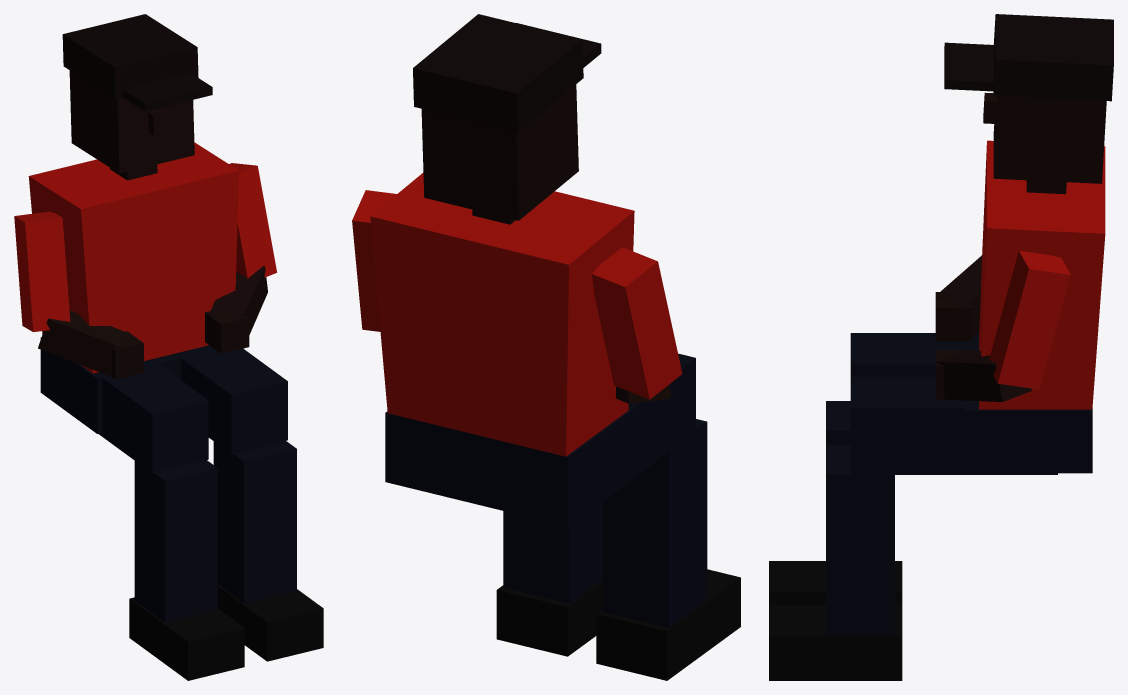
File: espectador_E.obj
The picture shows the model from 3 angles, left to right: view 1: azimuth 30°, elevation 25°; view 2: azimuth 150°, elevation 25°; view 3: azimuth 270°, elevation 25°; orthographic projection. The views are drawn at different scales.
Visible parts, largest first — view 1: Espectador_E_Cuerpo; view 2: Espectador_E_Cuerpo; view 3: Espectador_E_Cuerpo.
Boxes of the visible parts, x1,y1,x2,y2 form: Espectador_E_Cuerpo: (14, 14, 323, 680); Espectador_E_Cuerpo: (352, 14, 740, 680); Espectador_E_Cuerpo: (769, 14, 1113, 680).
Size of the model in its own units: 0.6476 by 1.36 by 0.6983.
